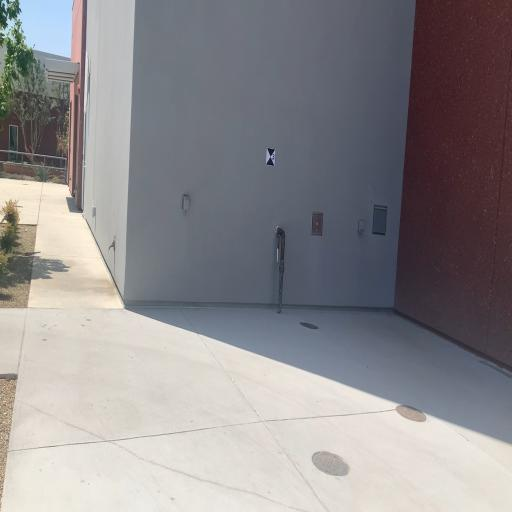target3: (266, 146, 276, 167)
